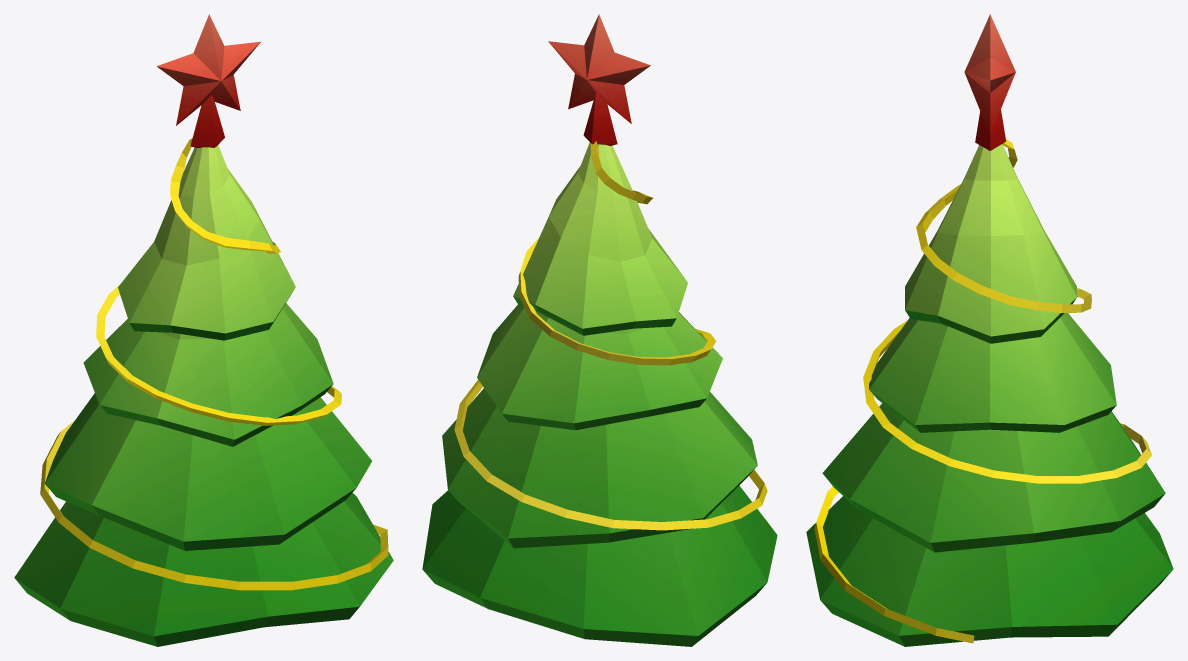
Rendered from n-xmas-tree.glb.
3 renders of one model, left to right at view 1: azimuth 30°, elevation 25°; view 2: azimuth 150°, elevation 25°; view 3: azimuth 270°, elevation 25°, orthographic. The views are drawn at different scales.
Parts seen in each view (by area): view 1: Christmas_Tree_V1_00(Clone); view 2: Christmas_Tree_V1_00(Clone); view 3: Christmas_Tree_V1_00(Clone).
Part boxes in pixels (left/top/right/bottom): Christmas_Tree_V1_00(Clone): left=14, top=14, right=393, bottom=646; Christmas_Tree_V1_00(Clone): left=422, top=14, right=777, bottom=646; Christmas_Tree_V1_00(Clone): left=806, top=14, right=1173, bottom=646.
Bounding box in the file's own units: 2.08 × 3.6 × 2.05.
1 material, 1 textured.
